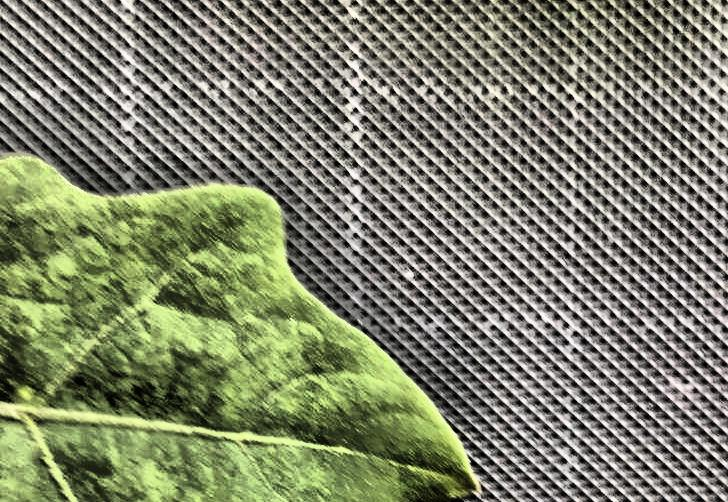HEALTHY: (0, 21, 476, 502)
